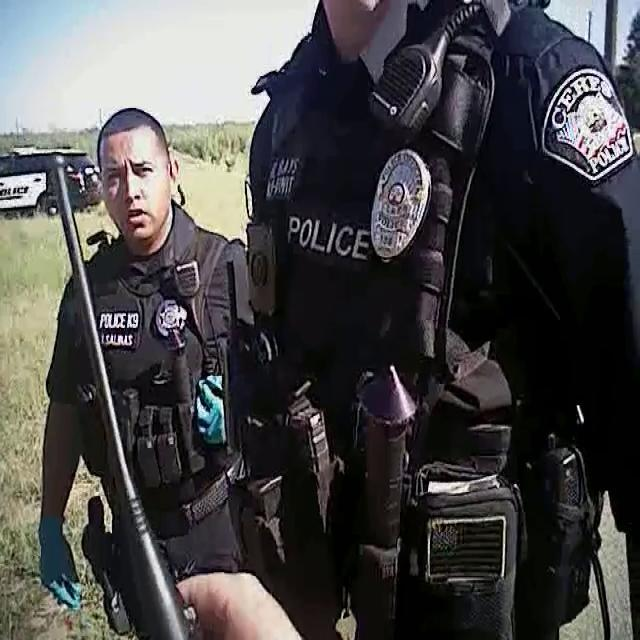gun: (74, 482, 138, 637)
